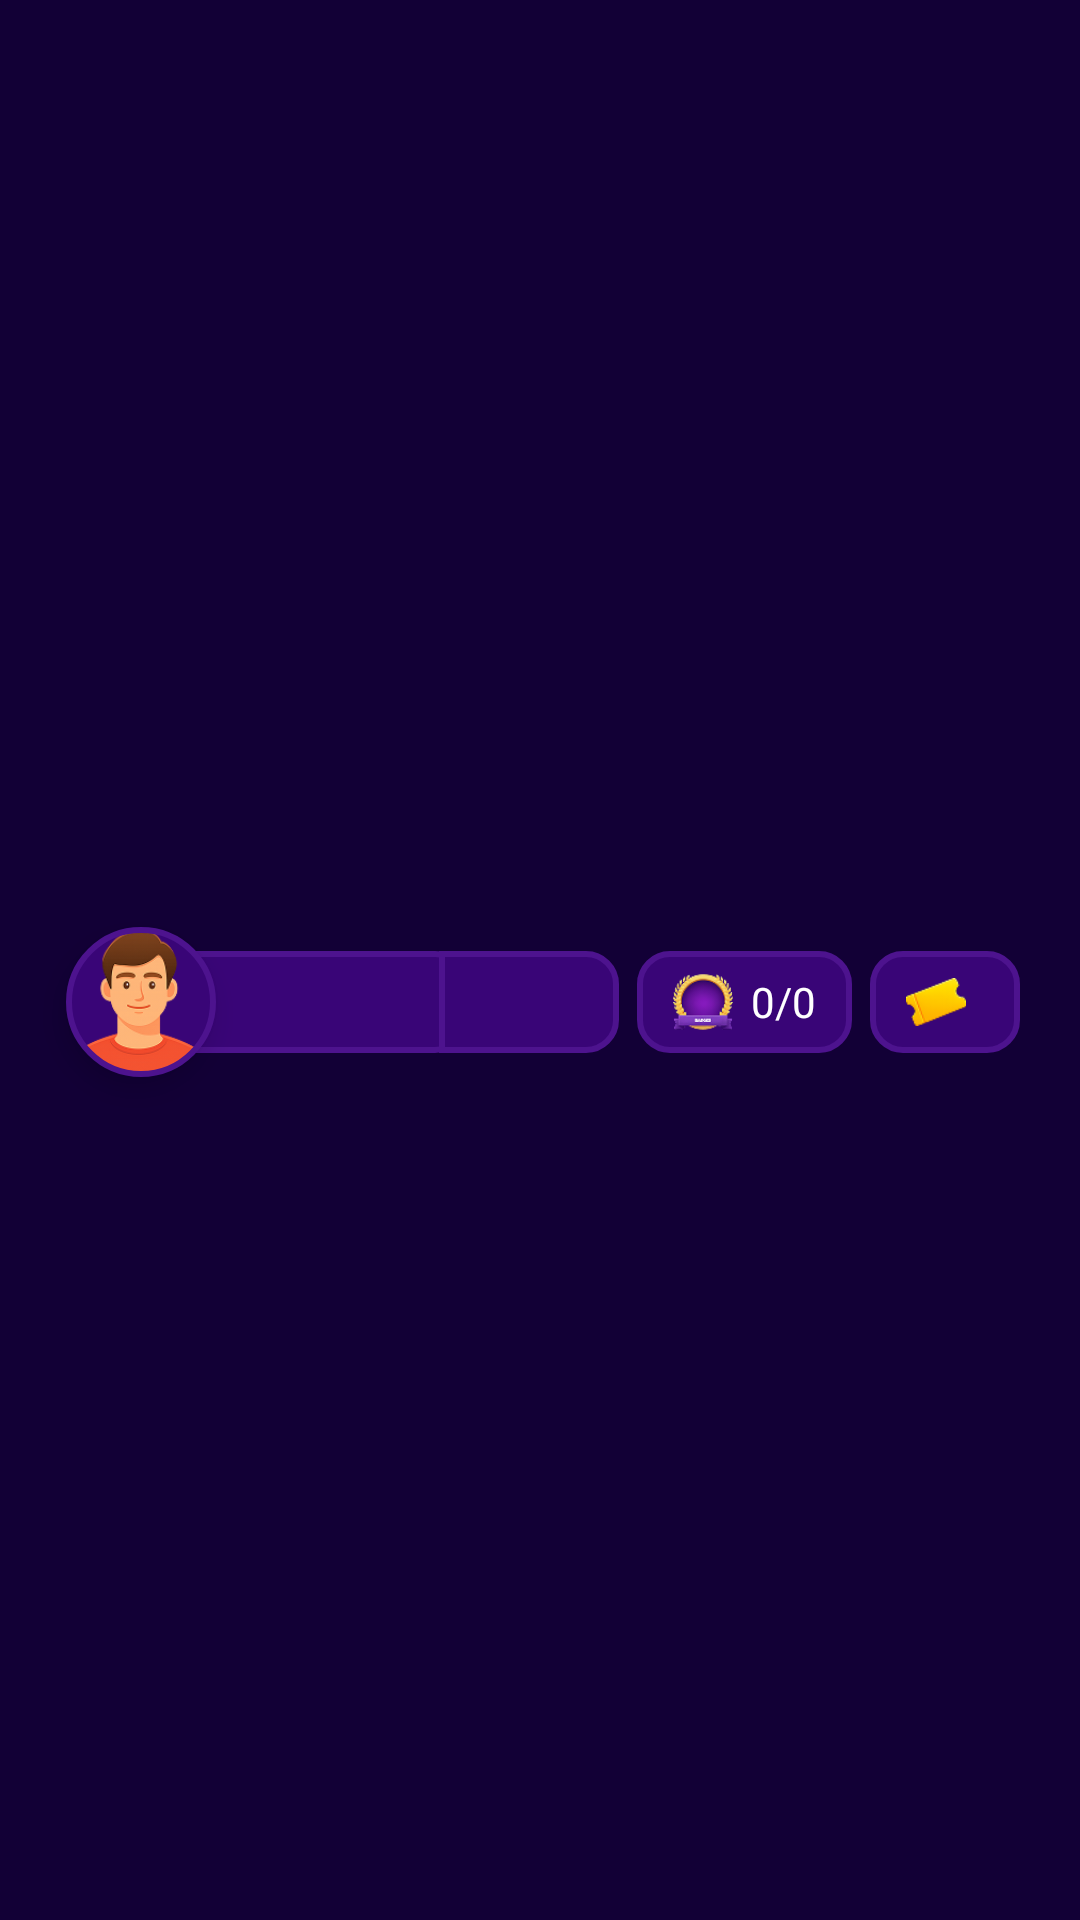

Icons on this 1080 × 1920 Android screen, each with its box as (x1, y1, x2, y2):
profile: (66, 927, 222, 1077)
ticket: (906, 978, 966, 1026)
